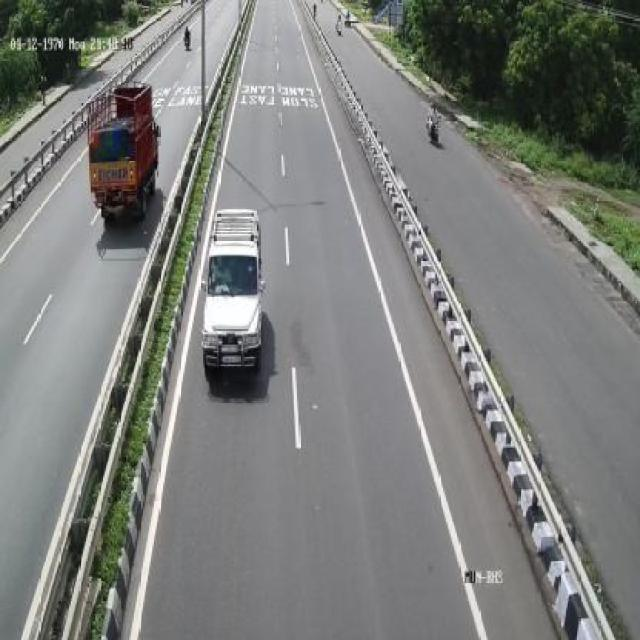car: (203, 203, 268, 391)
